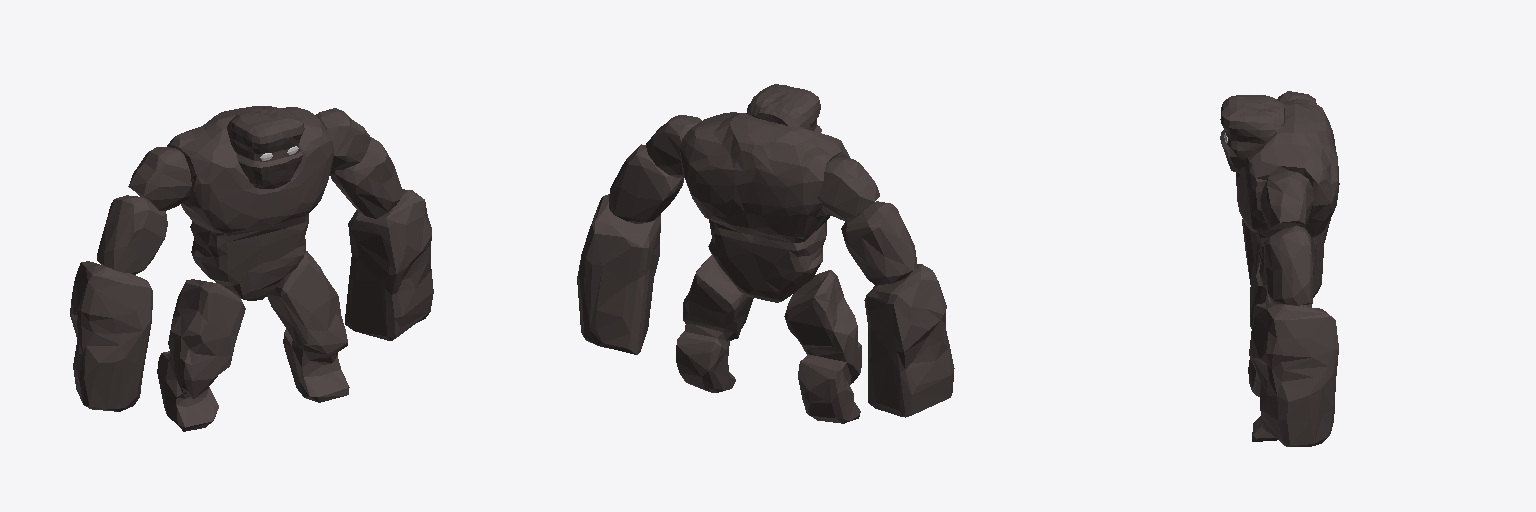
Rendered from StoneMan.obj.
The picture shows the model from 3 angles: view 1: azimuth 30°, elevation 25°; view 2: azimuth 150°, elevation 25°; view 3: azimuth 270°, elevation 25°; orthographic projection.
Visible parts, largest first — view 1: hands&leg.001_ice.003, torso.001_ice.005, head.001_ice.004; view 2: hands&leg.001_ice.003, torso.001_ice.005, head.001_ice.004; view 3: hands&leg.001_ice.003, torso.001_ice.005, head.001_ice.004.
Part boxes in pixels (x1,y1,x2,y2): hands&leg.001_ice.003: (70,108,433,431); torso.001_ice.005: (167,106,333,300); head.001_ice.004: (227,108,304,188); hands&leg.001_ice.003: (577,115,954,423); torso.001_ice.005: (680,112,849,302); head.001_ice.004: (746,84,821,132); hands&leg.001_ice.003: (1242,91,1338,446); torso.001_ice.005: (1236,98,1339,291); head.001_ice.004: (1220,95,1284,173).
Bounding box in the file's own units: 11.9 × 9.58 × 3.41.